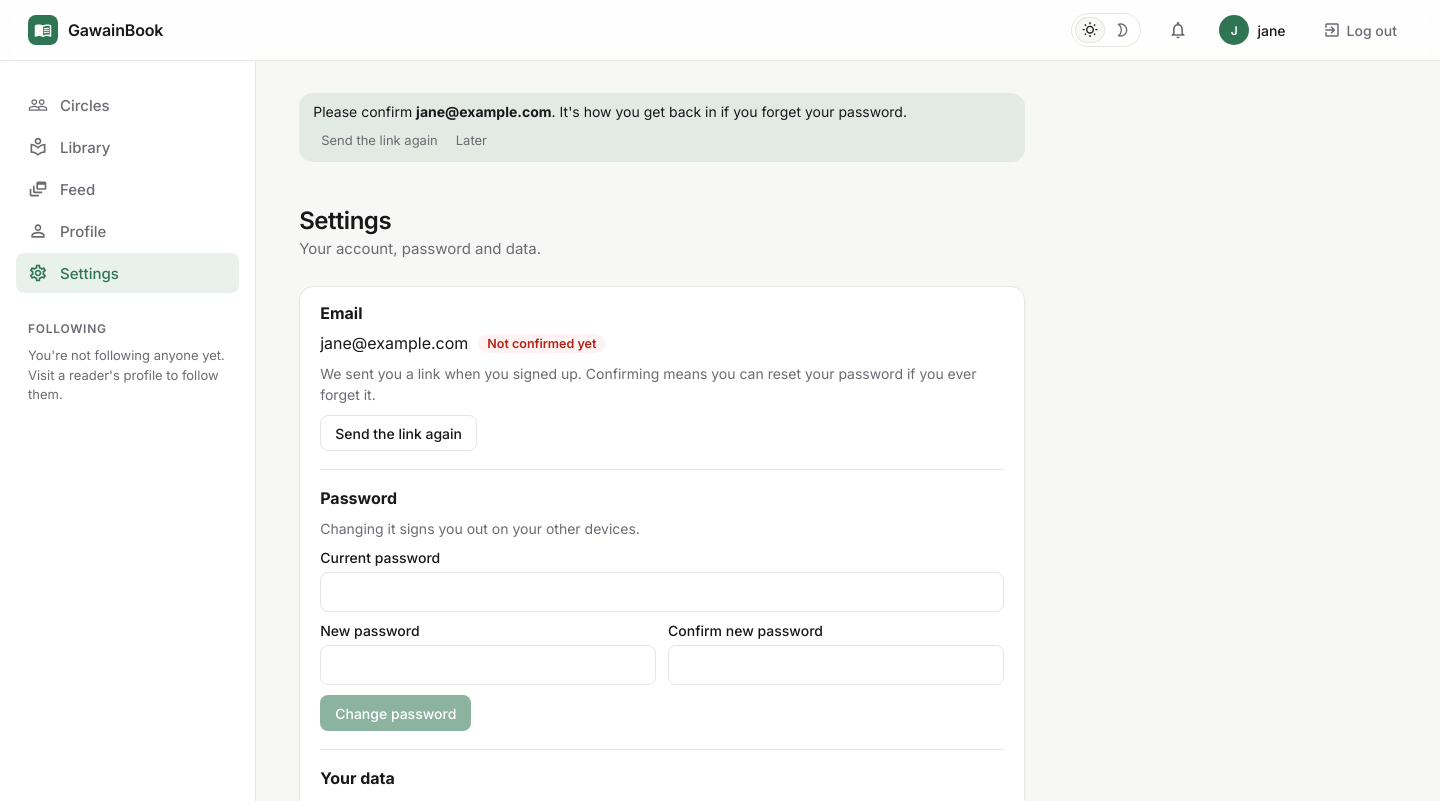
Test: email › unconfirmed: explains and can resend
Expected: the text "Not confirmed yet" is shown, [478, 334, 605, 352]
Click the button "Send the link again" below "Not confirmed yet" at point(399, 433), box [320, 415, 477, 451]
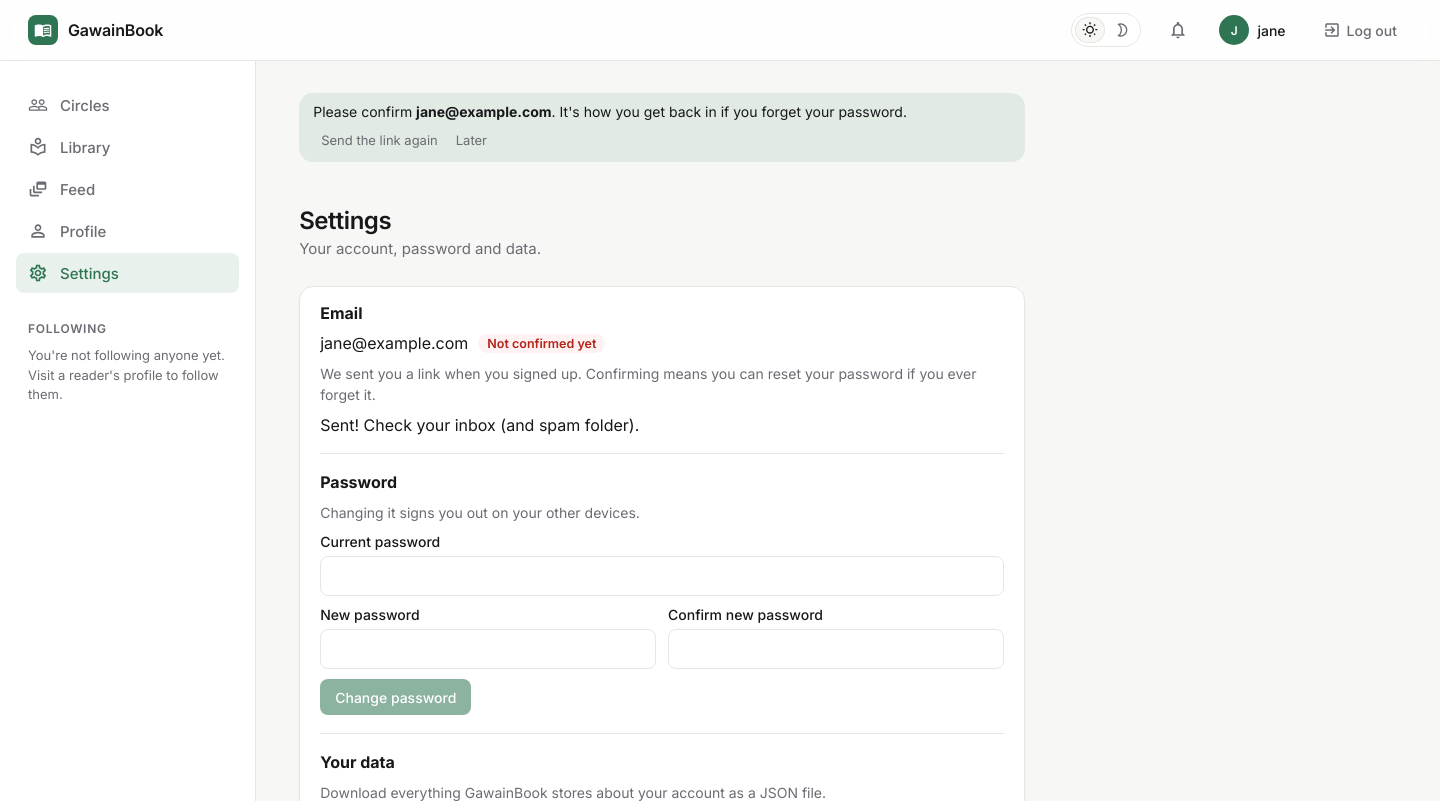
Result: the message shows "Sent!" at [320, 415, 639, 435]
